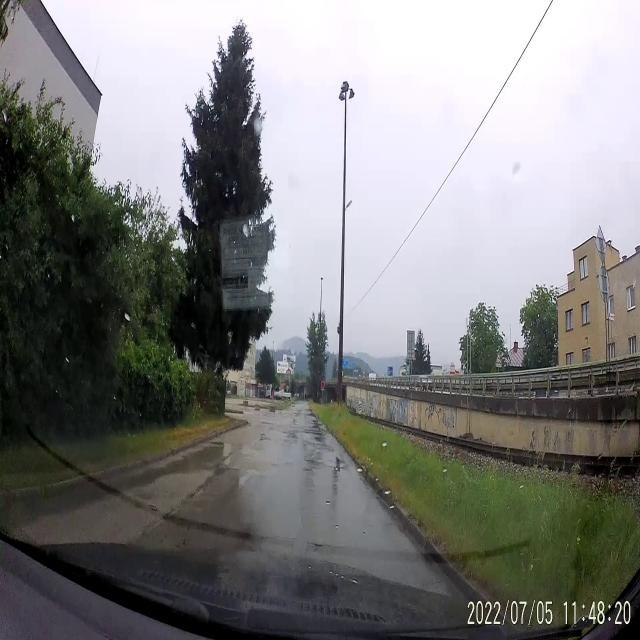Pothole: (319, 452, 348, 478), (311, 540, 326, 552), (149, 501, 158, 514)
